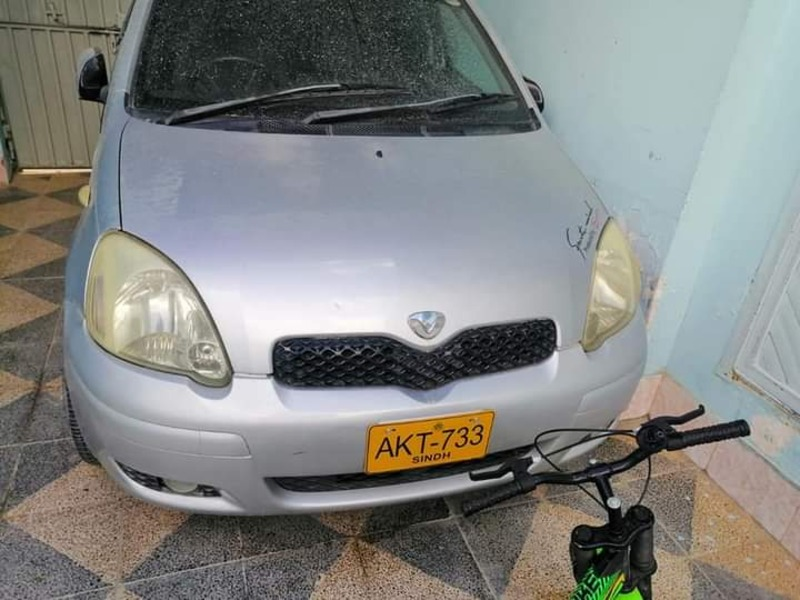License Plate: (363, 410, 498, 474)
